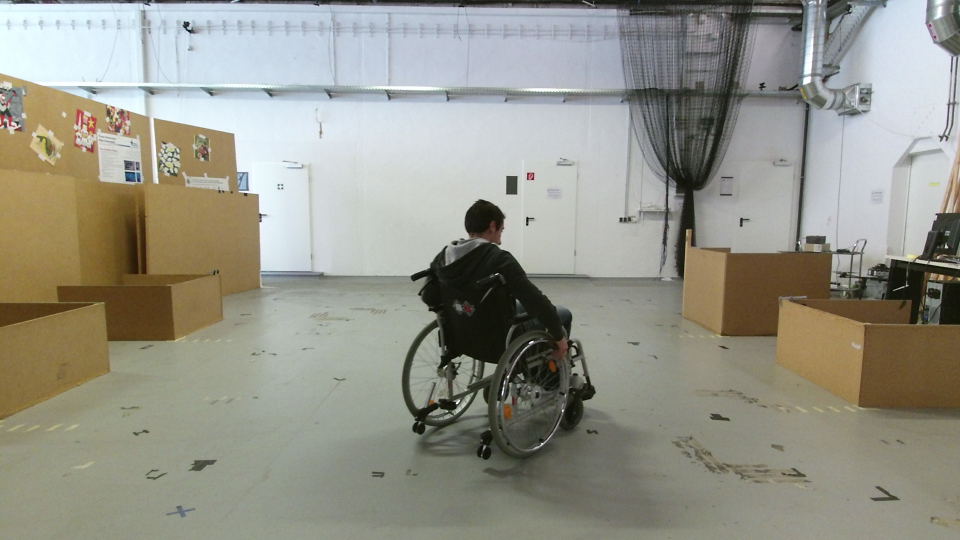wheelchair: (397, 197, 599, 464)
